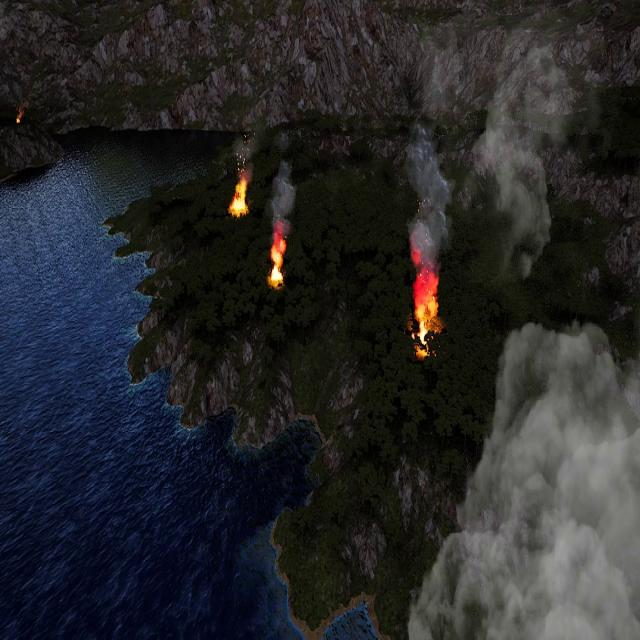fire: (410, 268, 440, 344), (269, 236, 287, 286), (231, 179, 249, 214), (14, 107, 22, 124)
smoke: (408, 319, 639, 640), (477, 43, 578, 280), (406, 121, 448, 272), (270, 133, 296, 237), (233, 134, 258, 180)
